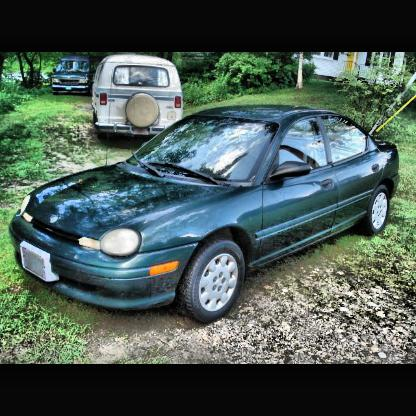Plymouth Neon Coupe 1999: (10, 105, 400, 325)
